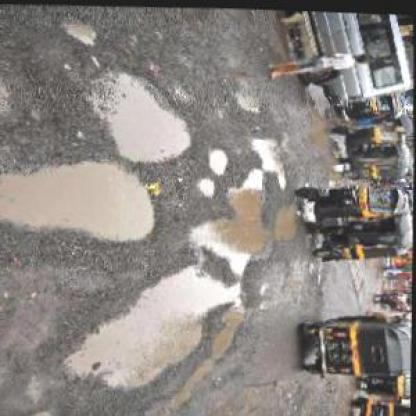pothole: (61, 259, 258, 398), (0, 158, 159, 246), (88, 68, 196, 165), (187, 160, 273, 278), (248, 133, 291, 189), (270, 200, 301, 241), (61, 15, 100, 46), (208, 144, 232, 175), (198, 176, 216, 198)
